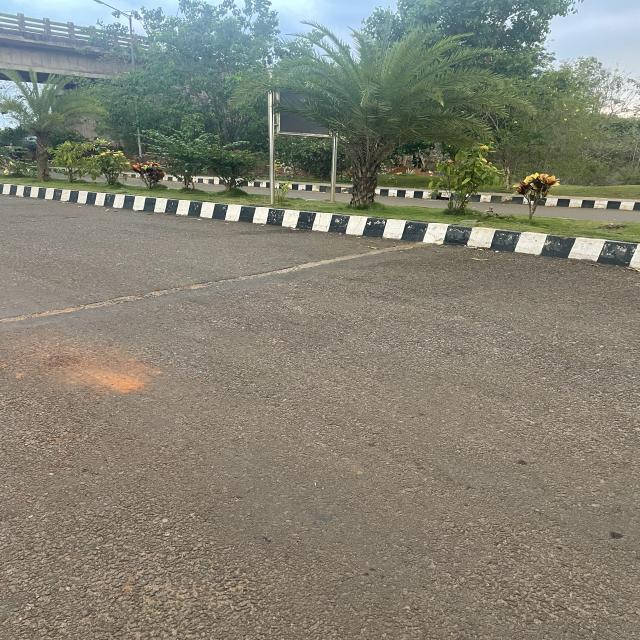D11: (13, 218, 462, 349)
D43: (313, 290, 640, 478)
